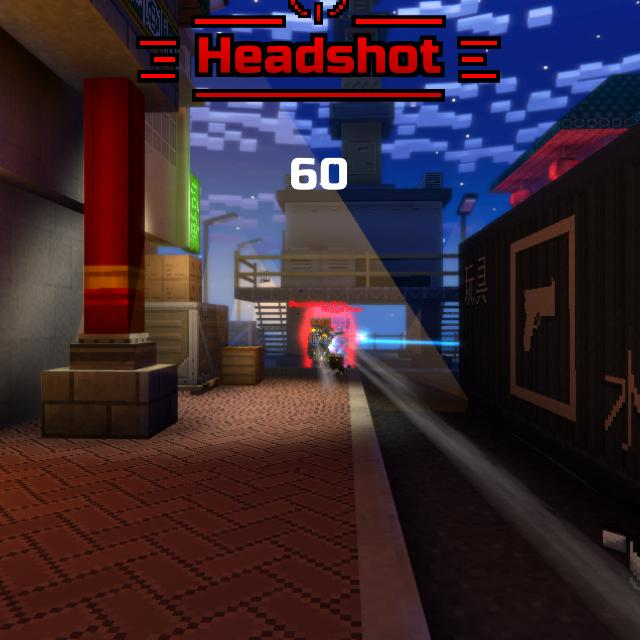Enemy: (309, 316, 353, 372)
